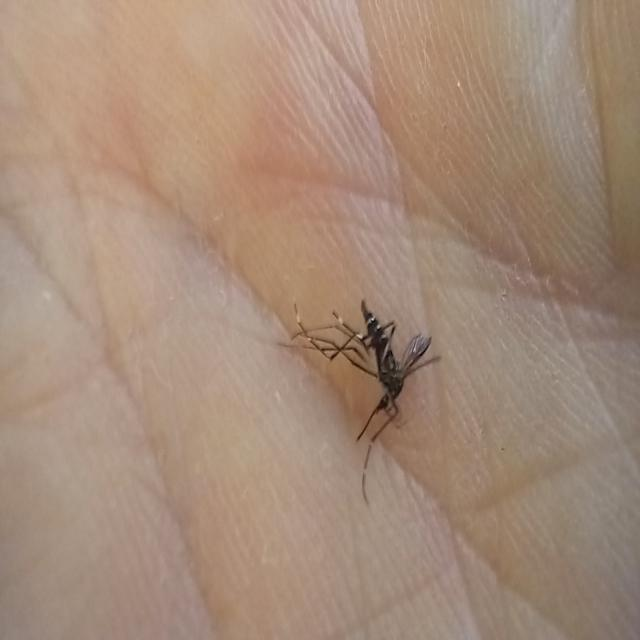albopictus: (286, 270, 438, 507)
